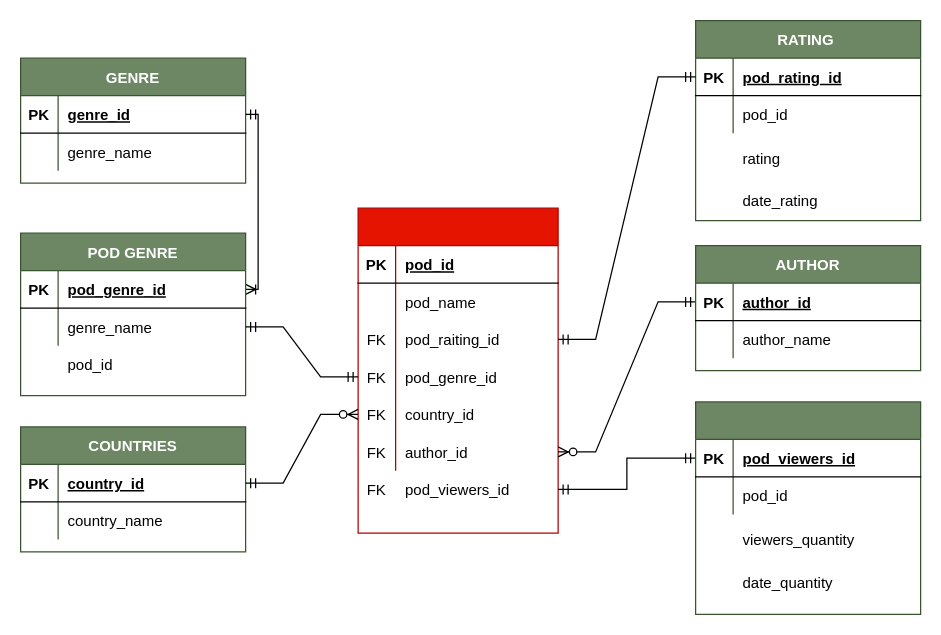
The diagram is 941 pixels wide and 635 high, and some of its shapes have lost their labels. The box of each missing label's shape, as (x1, y1, x2, y2) in pixels:
PODCAST: (357, 207, 558, 533)
QUANTITY: (694, 401, 921, 614)
